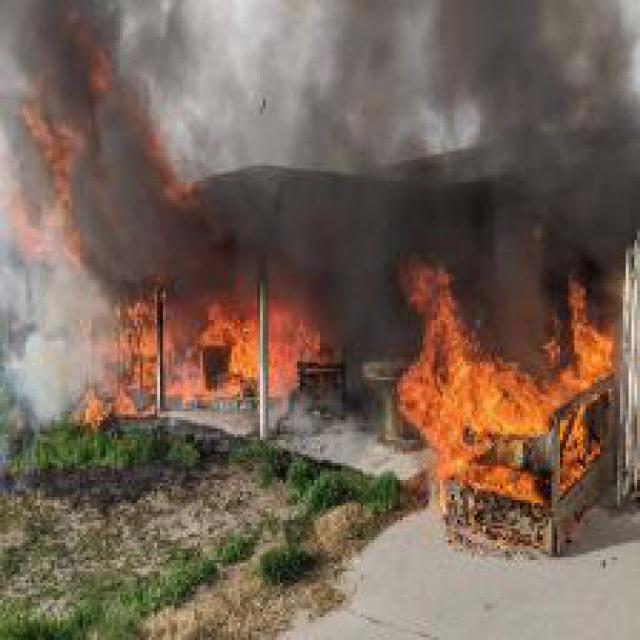fire: (389, 251, 617, 523), (17, 49, 186, 274), (83, 277, 328, 420)
